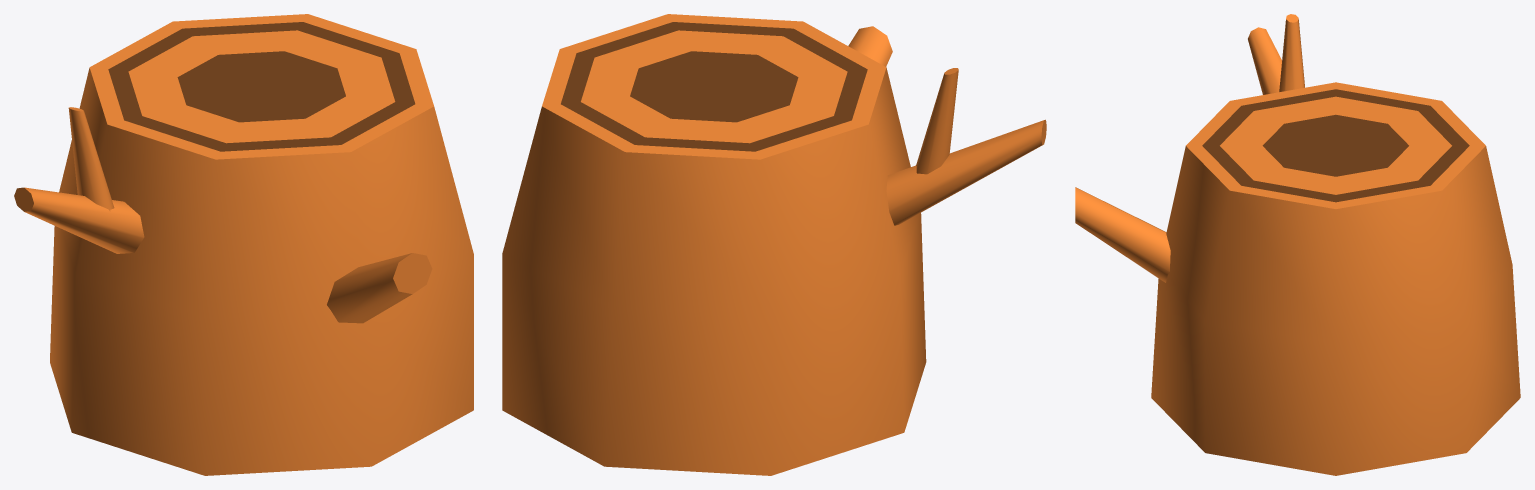
File: stump.fbx
3 views of the same model, side by side, from view 1: azimuth 30°, elevation 25°; view 2: azimuth 150°, elevation 25°; view 3: azimuth 270°, elevation 25° (orthographic). The views are drawn at different scales.
Parts seen in each view (by area): view 1: stump; view 2: stump; view 3: stump.
Part boxes in pixels (x1=…): stump: x1=14, y1=14, x2=473, y2=475; stump: x1=502, y1=14, x2=1046, y2=475; stump: x1=1075, y1=14, x2=1520, y2=475.
Size of the model in its own units: 0.4916 by 0.3442 by 0.4718.
